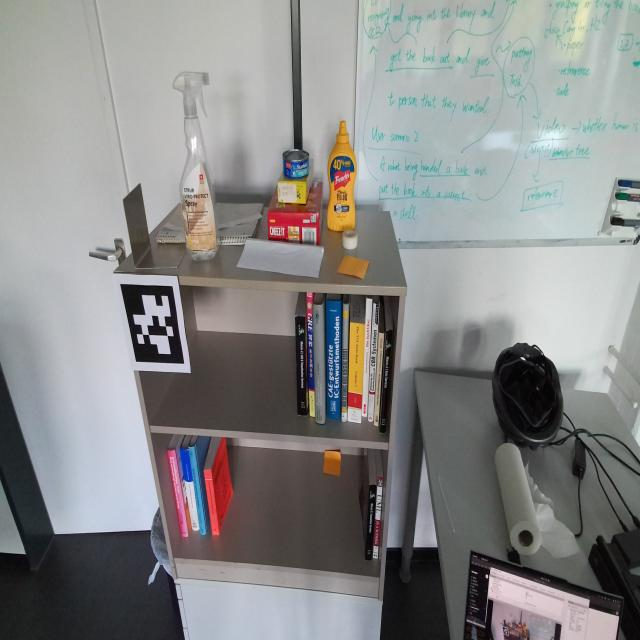Book Spine: (326, 300, 342, 420), (167, 449, 188, 537), (348, 324, 365, 423), (188, 445, 206, 536), (180, 449, 200, 530), (379, 329, 393, 433), (367, 303, 379, 422), (314, 307, 325, 424), (362, 299, 372, 418), (296, 316, 307, 417), (204, 470, 220, 536), (307, 292, 315, 418), (374, 333, 384, 427), (342, 302, 349, 423), (373, 476, 383, 560), (365, 485, 376, 560)
